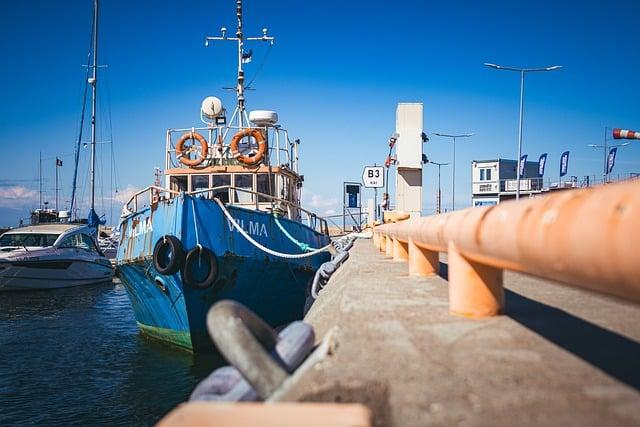Ship: (117, 6, 331, 352), (1, 224, 115, 292)
